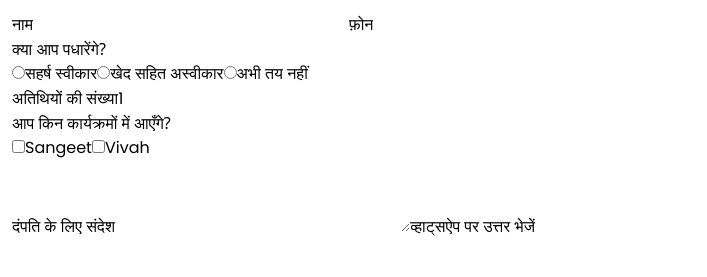
Test: <RsvpForm> › live pages that save the reply › says it is saving in Hindi
This screenshot has width=707, height=277.
Type "Sharma" into the field labelled "नाम".
click(191, 25); type("Sharma")  # box [33, 13, 349, 37]
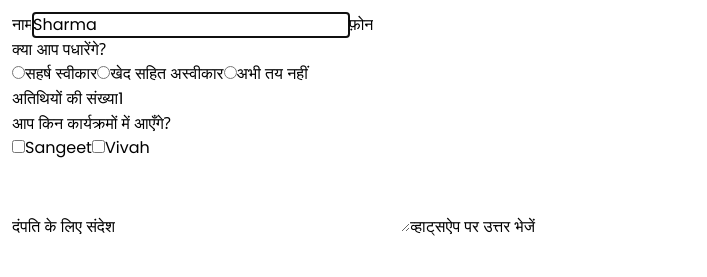
Type "9876543210" into the field labelled "फ़ोन".
click(531, 25); type("9876543210")  # box [373, 13, 689, 37]
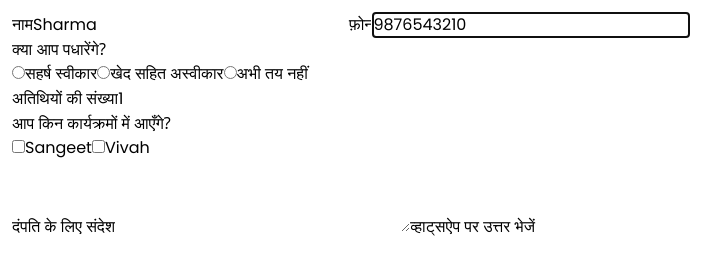
Click the radio button labelled "अभी तय नहीं".
click(230, 72)  # box [224, 66, 237, 79]
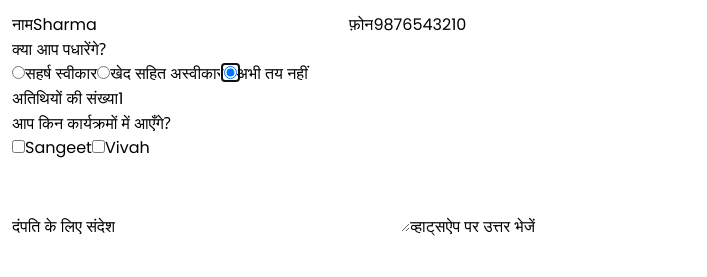
Click the button "व्हाट्सऐप पर उत्तर भेजें".
click(473, 227)  # box [410, 215, 535, 239]
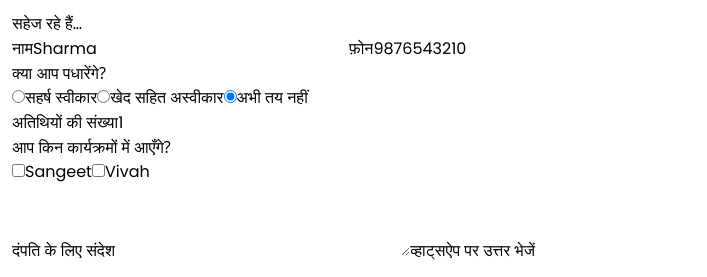
Now the message reads "सहेज रहे हैं…", box [12, 12, 82, 35]
